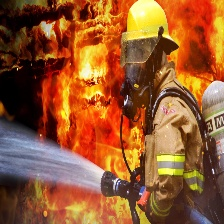fire: (26, 1, 224, 220)
